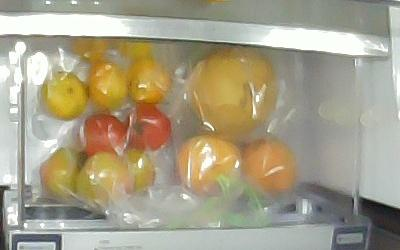peach_vinyl: (178, 135, 241, 194), (241, 139, 296, 194)
pear_vinyl: (186, 44, 278, 139)
tangerine_vinyl: (40, 71, 88, 121), (88, 61, 128, 111), (127, 59, 170, 104), (72, 38, 110, 61), (114, 40, 152, 61)
tomato_vinyl: (76, 151, 130, 203), (123, 104, 171, 153), (40, 146, 83, 196), (84, 113, 126, 155), (121, 150, 156, 195)
